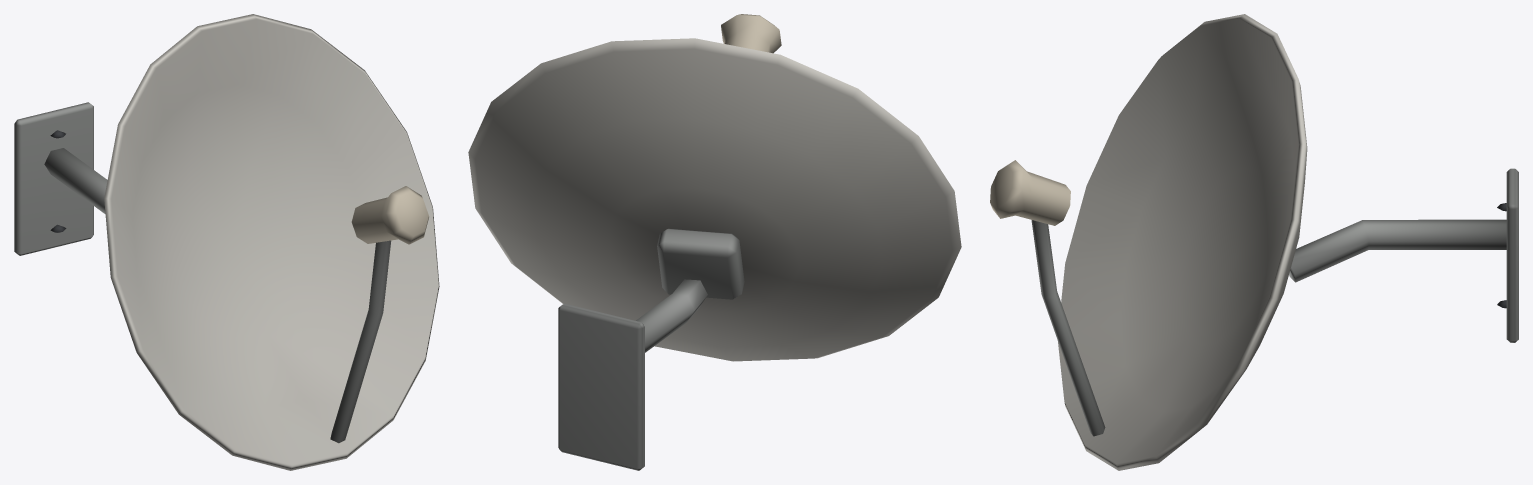
Rendered from SatelliteDish.fbx.
The picture shows the model from 3 angles, left to right: view 1: azimuth 30°, elevation 25°; view 2: azimuth 150°, elevation 25°; view 3: azimuth 270°, elevation 25°; orthographic projection. The views are drawn at different scales.
Parts seen in each view (by area): view 1: SatelliteDish; view 2: SatelliteDish; view 3: SatelliteDish.
Part boxes in pixels (<box>): SatelliteDish: <box>14,14,439,470</box>; SatelliteDish: <box>468,14,961,470</box>; SatelliteDish: <box>990,14,1518,470</box>.
Size of the model in its own units: 0.5915 by 0.5607 by 0.6908.
